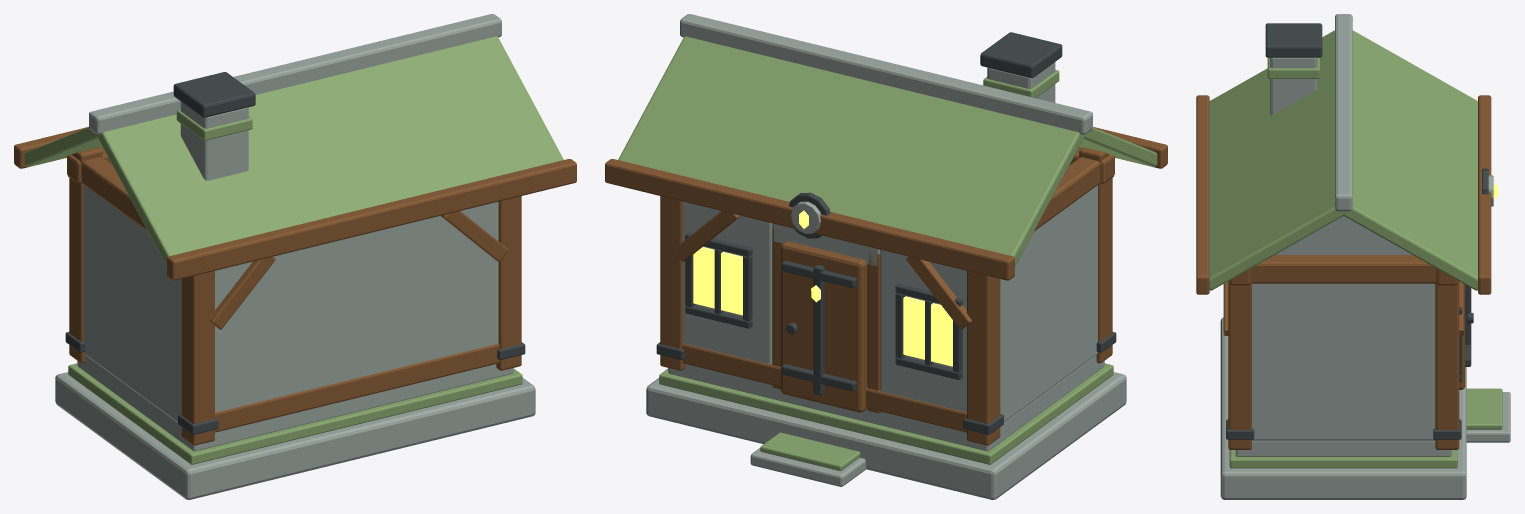
The model's file is SM_EmbermereFenwatchCottage_01.fbx.
3 renders of one model, left to right at view 1: azimuth 30°, elevation 25°; view 2: azimuth 150°, elevation 25°; view 3: azimuth 270°, elevation 25°, orthographic. The views are drawn at different scales.
Parts seen in each view (by area): view 1: SM_EmbermereFenwatchCottage_01; view 2: SM_EmbermereFenwatchCottage_01; view 3: SM_EmbermereFenwatchCottage_01.
Part boxes in pixels (x1=…): SM_EmbermereFenwatchCottage_01: x1=14, y1=14, x2=576, y2=499; SM_EmbermereFenwatchCottage_01: x1=605, y1=14, x2=1167, y2=499; SM_EmbermereFenwatchCottage_01: x1=1196, y1=14, x2=1510, y2=499.
Size of what is drawn, in the model's own units: 580 by 422 by 503.
